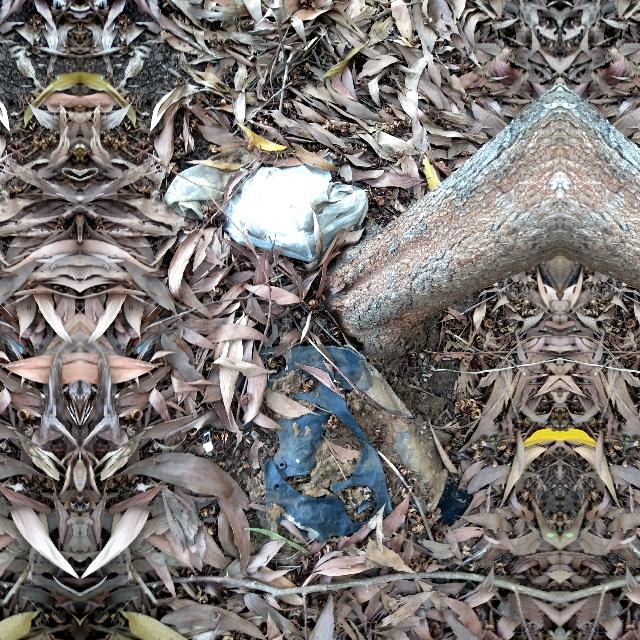Paper: (159, 146, 383, 270)
Plastic: (244, 339, 476, 553)
